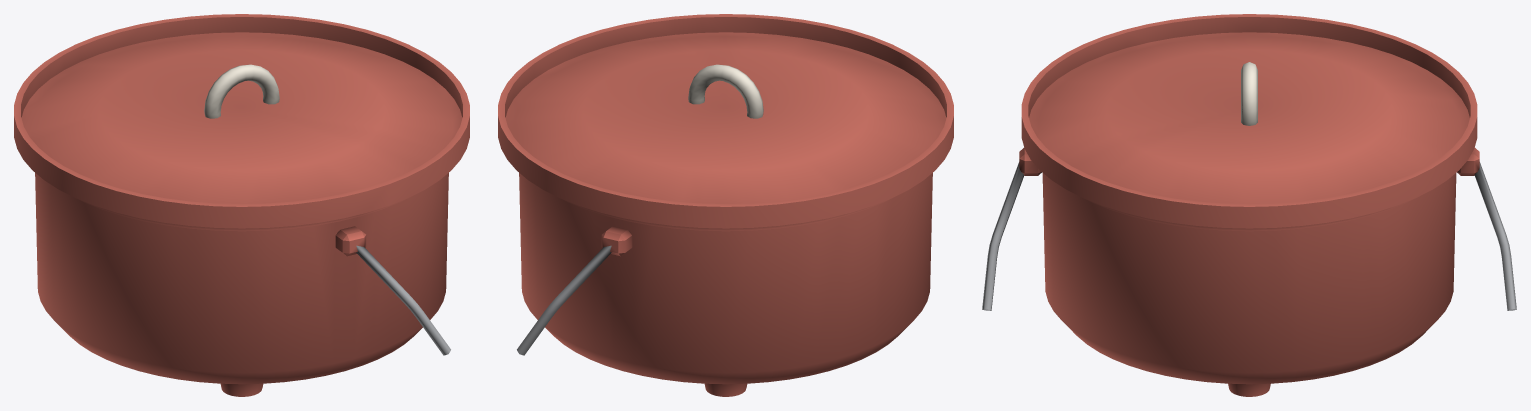
File: kit_oven.glb
3 views of the same model, side by side, from view 1: azimuth 30°, elevation 25°; view 2: azimuth 150°, elevation 25°; view 3: azimuth 270°, elevation 25° (orthographic).
Parts seen in each view (by area): view 1: LID, PART; view 2: LID, PART; view 3: LID, PART.
Part boxes in pixels (bbox=[...]): LID: bbox=[14, 14, 469, 228]; PART: bbox=[35, 173, 450, 396]; LID: bbox=[498, 14, 953, 228]; PART: bbox=[517, 173, 932, 396]; LID: bbox=[1021, 14, 1477, 228]; PART: bbox=[982, 147, 1516, 396].
Size of the model in its own units: 0.268 by 0.167 by 0.3139.
